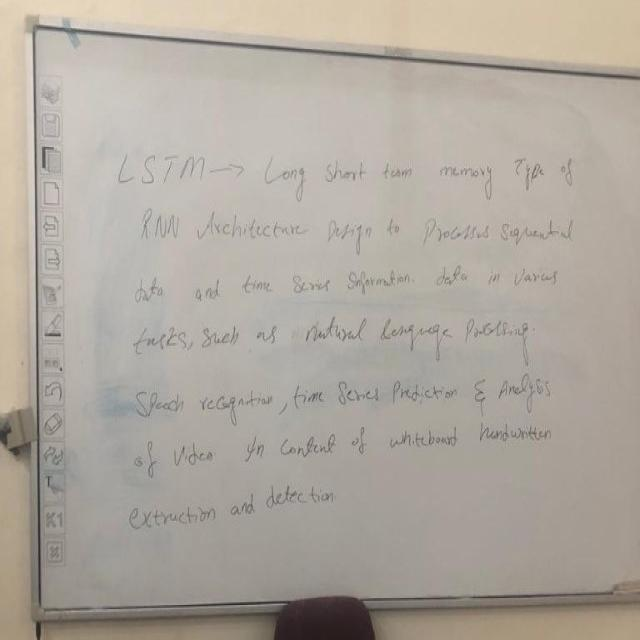White-board: (31, 20, 640, 624)
